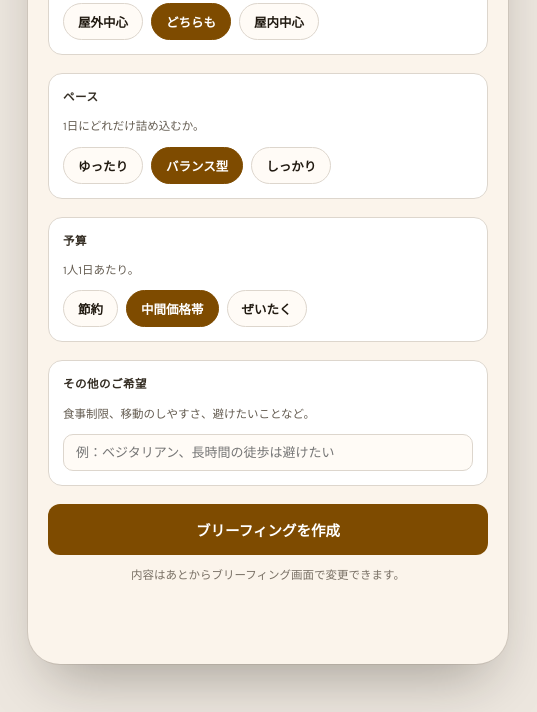
Test case: あなたへタブへの切り替え › あなたへタブを押すとプラン画面から切り替わり、戻れる
(page scrolled)
Click the button "ブリーフィングを作成". click: click(268, 530)
box: [48,504,488,555]
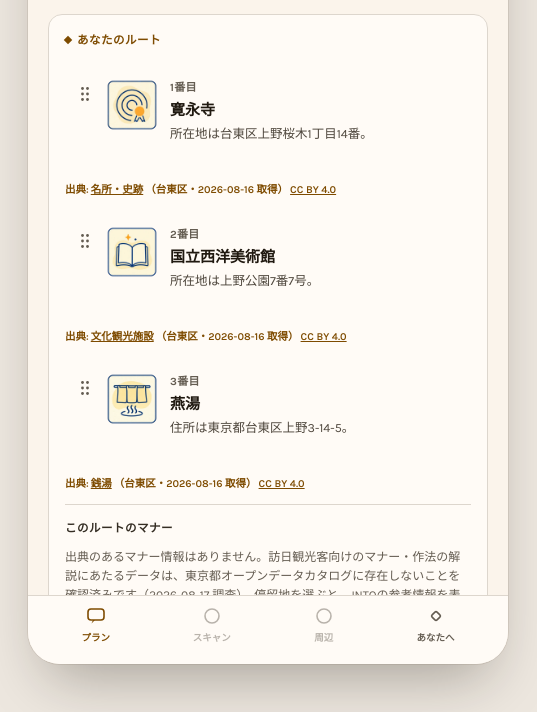
Check: the text "寛永寺" is shown, box [170,100,215,119]
Click the button "あなたへ". click: click(436, 625)
box: [416,606,454,644]
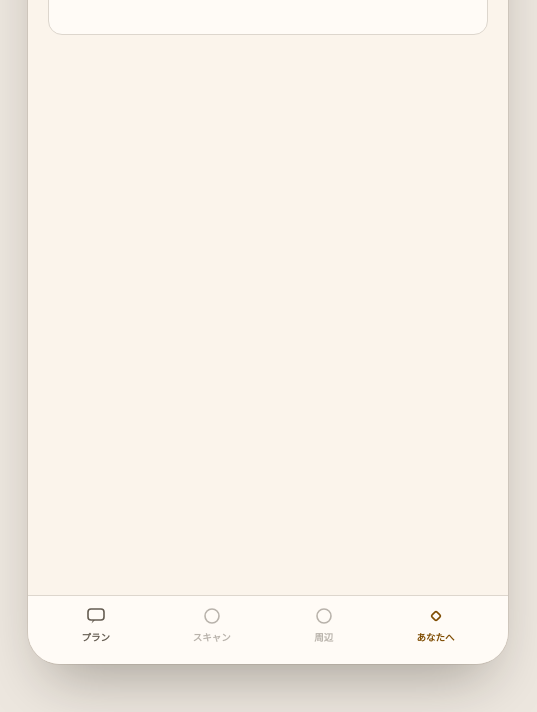
Check: the text "あなたのルート" is gone
Click the button "プラン". click: click(96, 625)
box: [81,606,110,644]
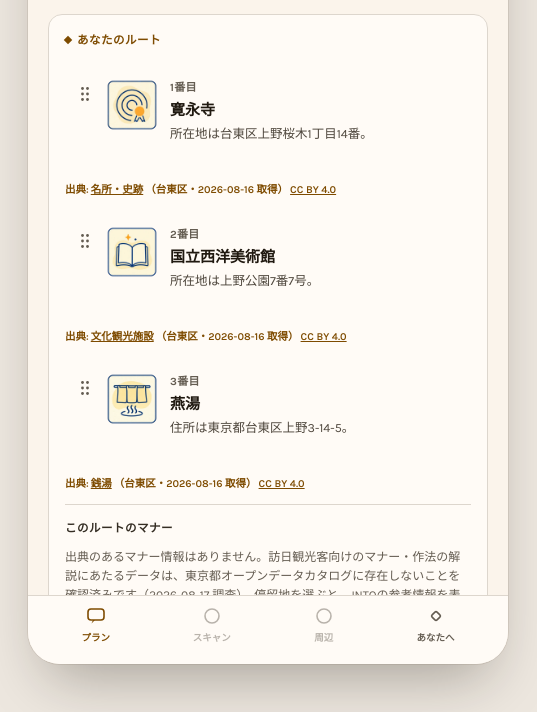
Check: the text "あなたのルート" is shown, box [77,31,161,50]
